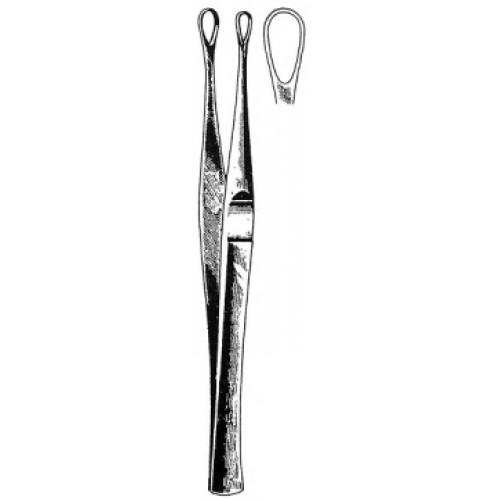Eye Intestinal Forceps: (193, 4, 258, 497)
